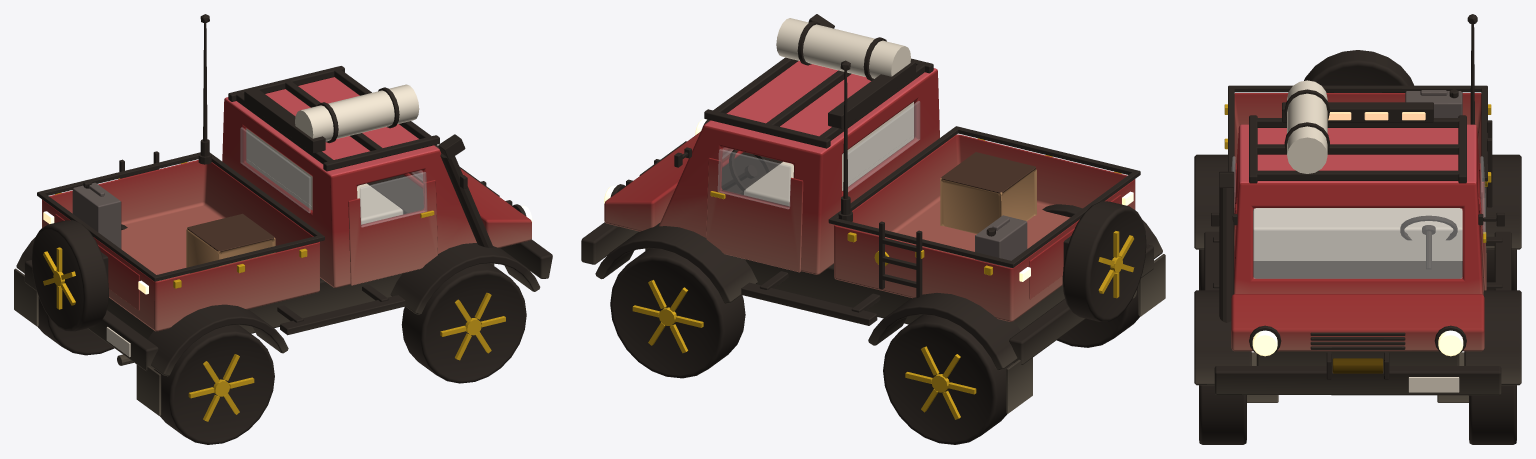
File: avatar-rover.glb
The picture shows the model from 3 angles, left to right: view 1: azimuth 30°, elevation 25°; view 2: azimuth 150°, elevation 25°; view 3: azimuth 270°, elevation 25°; orthographic projection. The views are drawn at different scales.
Parts seen in each view (by area): view 1: Z0_Avatar_Rover_Bed, Z0_Avatar_Rover_Cabin, Z0_Avatar_Rover_Wheel_FR, Z0_Avatar_Rover_Wheel_RR, Z0_Avatar_Rover_Spare, Z0_Avatar_Rover_Door_R, Z0_Avatar_Rover_BedRails, Z0_Avatar_Rover_Tarp, Z0_Avatar_Rover_Rack, Z0_Avatar_Rover_Fender_FR, Z0_Avatar_Rover_Fender_RR, Z0_Avatar_Rover_Chassis (+21 smaller); view 2: Z0_Avatar_Rover_Bed, Z0_Avatar_Rover_Cabin, Z0_Avatar_Rover_Wheel_FL, Z0_Avatar_Rover_Wheel_RL, Z0_Avatar_Rover_Spare, Z0_Avatar_Rover_Door_L, Z0_Avatar_Rover_Crate, Z0_Avatar_Rover_BedRails, Z0_Avatar_Rover_Tarp, Z0_Avatar_Rover_Fender_FL, Z0_Avatar_Rover_Fender_RL, Z0_Avatar_Rover_Rack (+24 smaller); view 3: Z0_Avatar_Rover_Cabin, Z0_Avatar_Rover_Windshield, Z0_Avatar_Rover_Hood, Z0_Avatar_Rover_Seat, Z0_Avatar_Rover_Bumper_F, Z0_Avatar_Rover_Rack, Z0_Avatar_Rover_Dashboard, Z0_Avatar_Rover_Fender_FL, Z0_Avatar_Rover_Fender_FR, Z0_Avatar_Rover_Tarp, Z0_Avatar_Rover_Bed, Z0_Avatar_Rover_Spare (+25 smaller).
Part boxes in pixels (x1=…): Z0_Avatar_Rover_Bed: x1=42, y1=160, x2=319, y2=331; Z0_Avatar_Rover_Cabin: x1=222, y1=77, x2=476, y2=287; Z0_Avatar_Rover_Wheel_FR: x1=401, y1=263, x2=526, y2=383; Z0_Avatar_Rover_Wheel_RR: x1=154, y1=325, x2=274, y2=444; Z0_Avatar_Rover_Spare: x1=31, y1=220, x2=108, y2=331; Z0_Avatar_Rover_Door_R: x1=348, y1=180, x2=437, y2=285; Z0_Avatar_Rover_BedRails: x1=37, y1=152, x2=324, y2=281; Z0_Avatar_Rover_Tarp: x1=295, y1=84, x2=419, y2=141; Z0_Avatar_Rover_Rack: x1=228, y1=66, x2=439, y2=171; Z0_Avatar_Rover_Fender_FR: x1=390, y1=243, x2=540, y2=314; Z0_Avatar_Rover_Fender_RR: x1=148, y1=304, x2=288, y2=376; Z0_Avatar_Rover_Chassis: x1=107, y1=263, x2=494, y2=339; Z0_Avatar_Rover_Bed: x1=834, y1=134, x2=1135, y2=321; Z0_Avatar_Rover_Cabin: x1=659, y1=61, x2=939, y2=274; Z0_Avatar_Rover_Wheel_FL: x1=610, y1=248, x2=745, y2=378; Z0_Avatar_Rover_Wheel_RL: x1=883, y1=314, x2=1013, y2=444; Z0_Avatar_Rover_Spare: x1=1062, y1=201, x2=1146, y2=321; Z0_Avatar_Rover_Door_L: x1=706, y1=158, x2=803, y2=272; Z0_Avatar_Rover_Crate: x1=940, y1=152, x2=1036, y2=233; Z0_Avatar_Rover_BedRails: x1=828, y1=126, x2=1140, y2=267; Z0_Avatar_Rover_Tarp: x1=776, y1=18, x2=910, y2=78; Z0_Avatar_Rover_Fender_FL: x1=595, y1=223, x2=757, y2=303; Z0_Avatar_Rover_Fender_RL: x1=868, y1=293, x2=1020, y2=370; Z0_Avatar_Rover_Rack: x1=704, y1=57, x2=933, y2=148; Z0_Avatar_Rover_Cabin: x1=1234, y1=124, x2=1483, y2=294; Z0_Avatar_Rover_Windshield: x1=1253, y1=208, x2=1462, y2=278; Z0_Avatar_Rover_Hood: x1=1231, y1=294, x2=1484, y2=351; Z0_Avatar_Rover_Seat: x1=1253, y1=208, x2=1462, y2=260; Z0_Avatar_Rover_Bumper_F: x1=1214, y1=366, x2=1501, y2=395; Z0_Avatar_Rover_Rack: x1=1249, y1=115, x2=1466, y2=183; Z0_Avatar_Rover_Dashboard: x1=1253, y1=261, x2=1462, y2=278; Z0_Avatar_Rover_Fender_FL: x1=1464, y1=290, x2=1521, y2=385; Z0_Avatar_Rover_Fender_FR: x1=1194, y1=290, x2=1251, y2=385; Z0_Avatar_Rover_Tarp: x1=1287, y1=80, x2=1327, y2=173; Z0_Avatar_Rover_Bed: x1=1234, y1=93, x2=1484, y2=216; Z0_Avatar_Rover_Spare: x1=1304, y1=50, x2=1413, y2=92.
Size of the model in its own units: 3.33 by 2.26 by 1.94.
